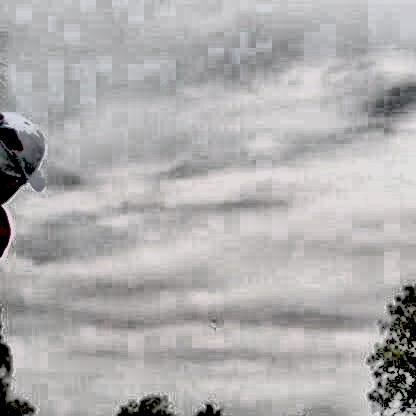golfball: (206, 314, 214, 321)
